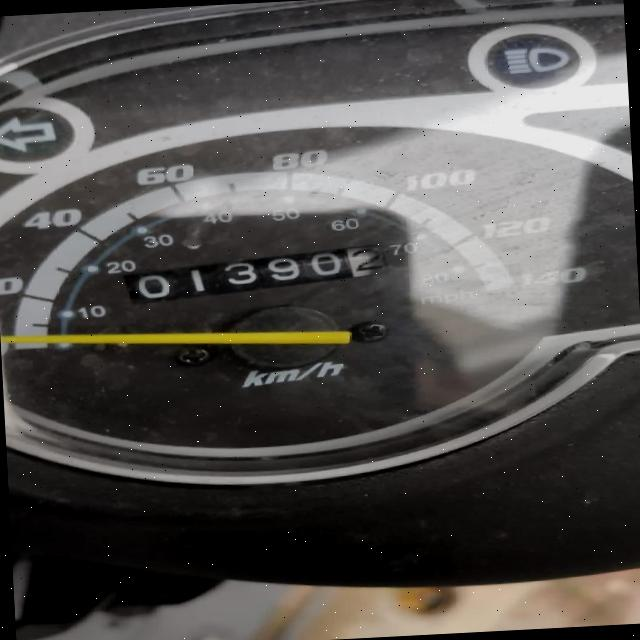odometer: (117, 242, 390, 306)
